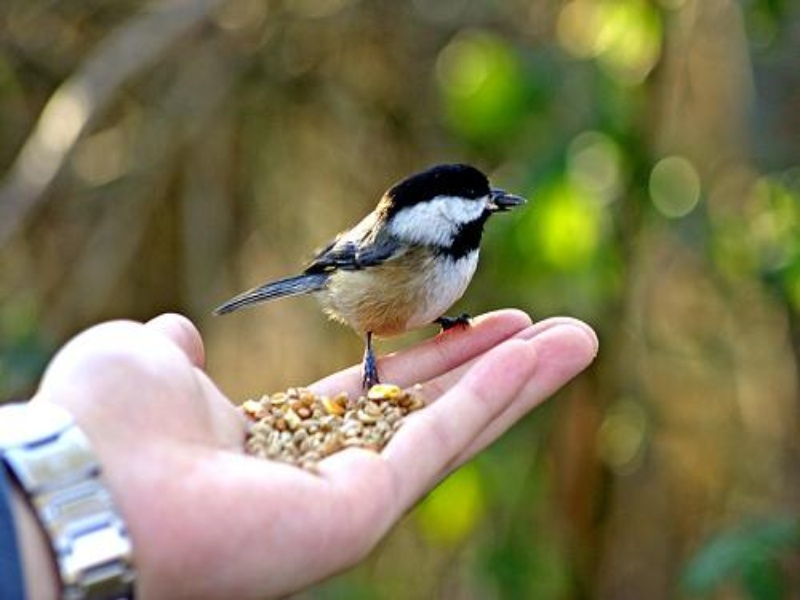hands: (50, 303, 615, 598)
